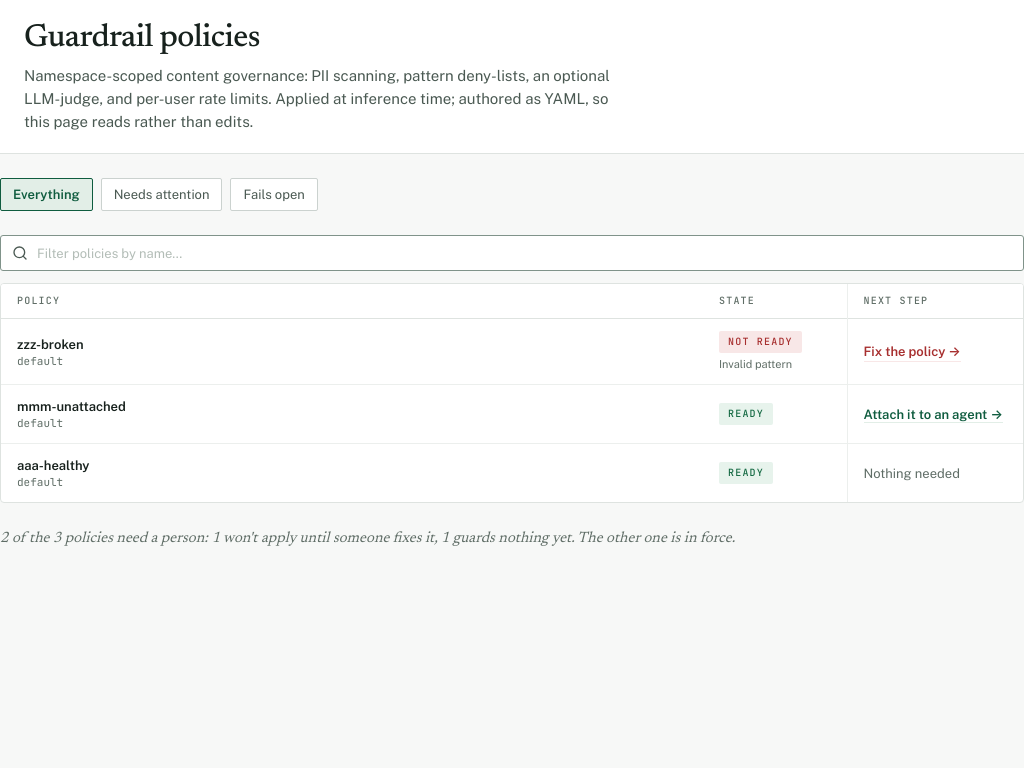
it: GuardrailPoliciesPage — A1 archetype (M151) › the crit Next step opens the drawer with the FULL controller reason
The width and height of the screenshot is (1024, 768).
Expected: the text "zzz-broken" is shown, top-left (17, 336), bottom-right (84, 352)
Click the button with test id "next-step-zzz-broken": (912, 352) top-left (864, 342), bottom-right (961, 362)
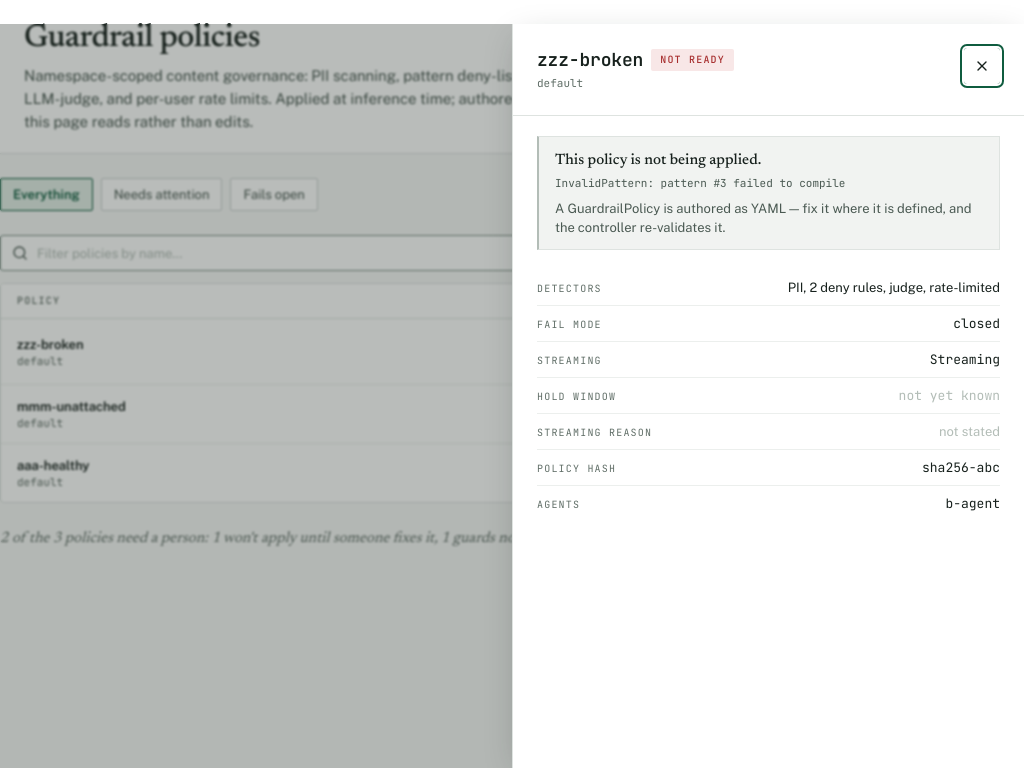
Now the element with test id "guardrail-drawer" is shown, box top-left (537, 136), bottom-right (1000, 521)
Now the text "InvalidPattern: pattern #3 failed to compile" is shown, box top-left (555, 176), bottom-right (845, 190)
